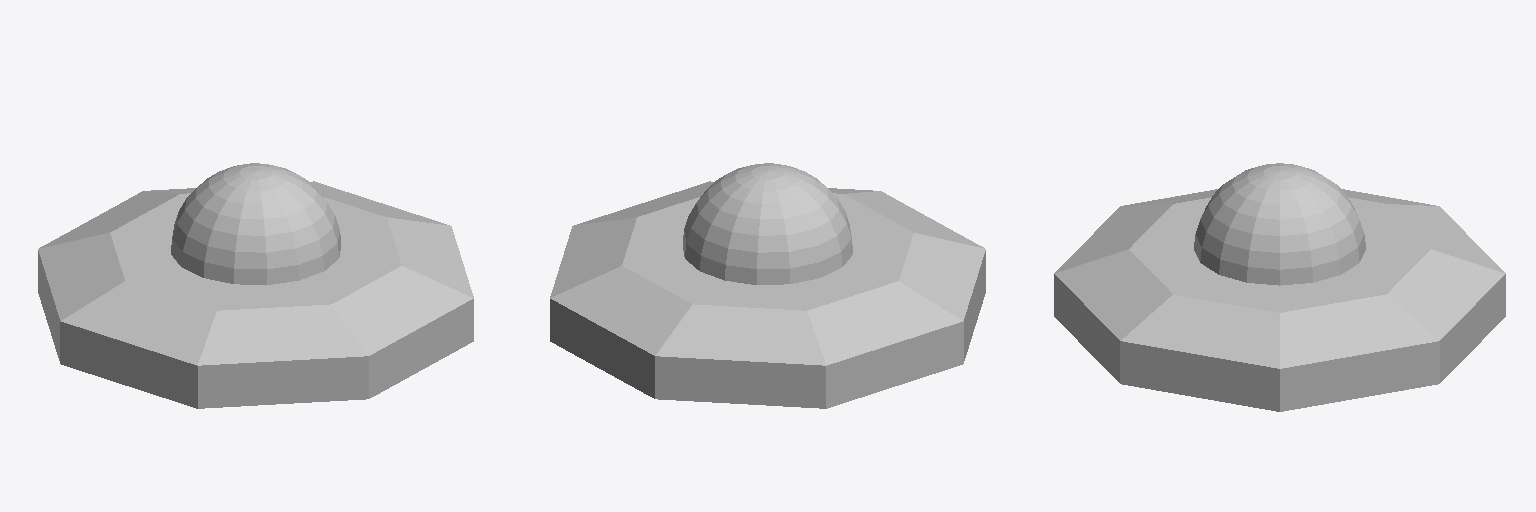
The model's file is ufo.obj.
The picture shows the model from 3 angles: view 1: azimuth 30°, elevation 25°; view 2: azimuth 150°, elevation 25°; view 3: azimuth 270°, elevation 25°; orthographic projection.
Visible parts, largest first — view 1: Cylinder; view 2: Cylinder; view 3: Cylinder.
Part boxes in pixels (bbox=[...]): Cylinder: bbox=[38, 163, 473, 408]; Cylinder: bbox=[550, 163, 985, 408]; Cylinder: bbox=[1054, 163, 1505, 411].
Bounding box in the file's own units: 2.99 × 1.24 × 2.99.